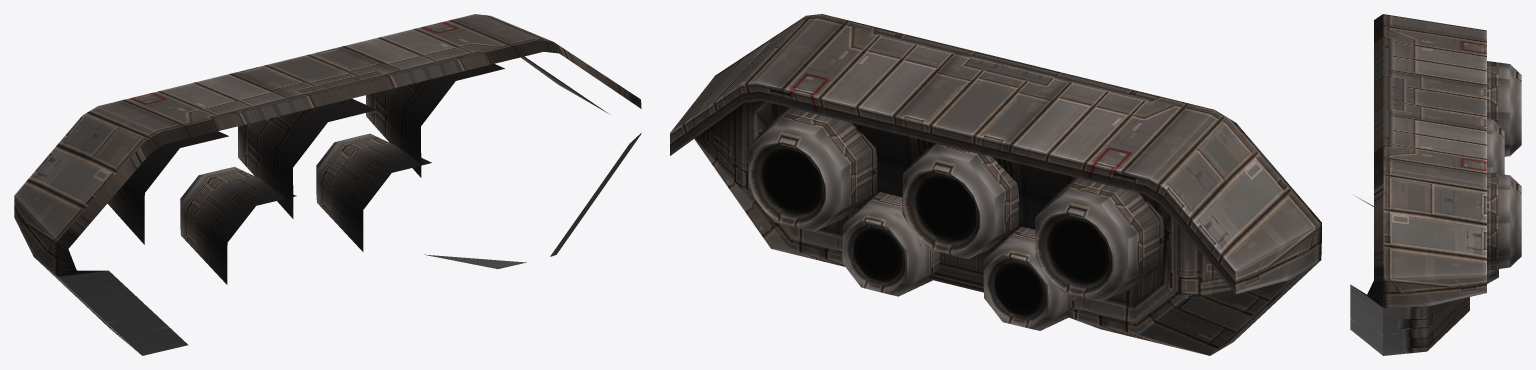
Rendered from engine_hgn_carrier_02_ion_03_t1.glb.
3 views of the same model, side by side, from view 1: azimuth 30°, elevation 25°; view 2: azimuth 150°, elevation 25°; view 3: azimuth 270°, elevation 25° (orthographic). The views are drawn at different scales.
Visible parts, largest first — view 1: carrier_01_engine_l; view 2: carrier_01_engine_l; view 3: carrier_01_engine_l.
Boxes of the visible parts, x1,y1,x2,y2 form: carrier_01_engine_l: (14,14,641,355); carrier_01_engine_l: (670,14,1321,355); carrier_01_engine_l: (1350,14,1521,355).
Bounding box in the file's own units: 2.42 × 0.8698 × 0.7453.
1 material, 1 textured.
